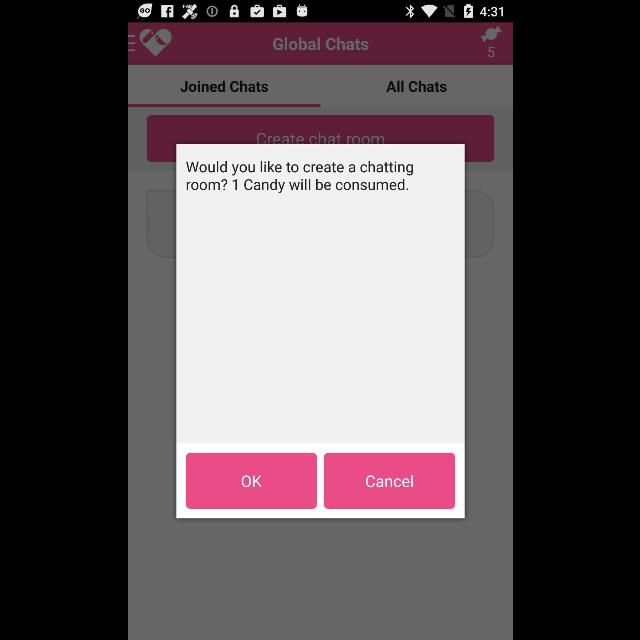image: (139, 29, 171, 56), (480, 26, 500, 42)
panel: (176, 144, 464, 518)
text: (185, 160, 412, 193), (272, 37, 368, 51), (179, 81, 267, 92), (386, 81, 446, 93), (486, 46, 494, 58)
textbutton: (324, 453, 454, 509), (186, 453, 316, 509)
uppertaskbar: (128, 1, 512, 23)
